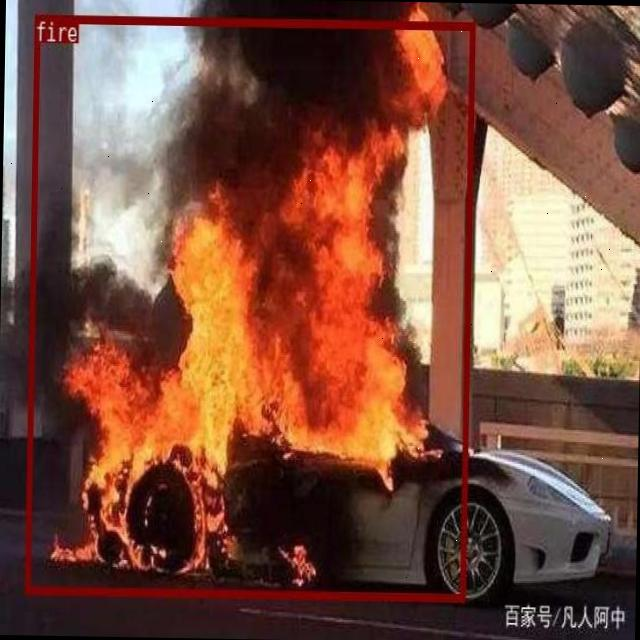fire: (23, 12, 473, 600)
